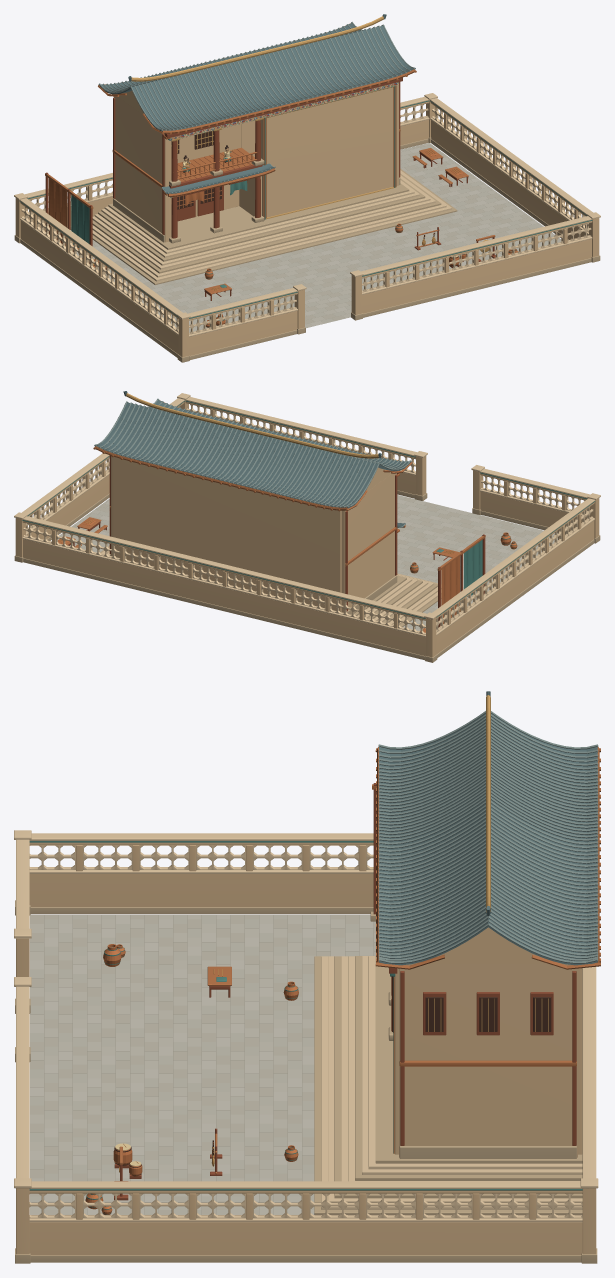
Rendered from music-pavilion.glb.
3 views of the same model, one above another, from view 1: azimuth 30°, elevation 25°; view 2: azimuth 150°, elevation 25°; view 3: azimuth 270°, elevation 25° (orthographic). The views are drawn at different scales.
Parts seen in each view (by area): view 1: court-paving--court-limestone-0, architecture--plaster.001, courtyard-enclosure--plaster.001, courtyard-enclosure--stone-light.001, main-roof--tile.001, terraced-foundation--stone-light, terraced-foundation--stone, main-roof--tile-edge.001, courtyard-enclosure--stone, porch--wood.001, porch--wood-light.001, main-roof--wood-light.001 (+15 smaller); view 2: architecture--plaster.001, courtyard-enclosure--plaster.001, courtyard-enclosure--stone-light.001, main-roof--tile.001, court-paving--court-limestone-0, main-roof--tile-edge.001, courtyard-enclosure--stone, courtyard-enclosure--teal.001, terraced-foundation--stone-light, main-roof--wood-light.001, main-roof--ochre.001, terraced-foundation--stone (+5 smaller); view 3: court-paving--court-limestone-0, main-roof--tile-edge.001, courtyard-enclosure--plaster.001, architecture--plaster.001, courtyard-enclosure--stone-light.001, main-roof--tile.001, terraced-foundation--stone-light, terraced-foundation--stone, court-paving--court-fine-joints, courtyard-enclosure--stone, mural-frame--wood.001, mural-frame--stone.001 (+8 smaller).
Part boxes in pixels (box(x1,y1,x2,y2)): court-paving--court-limestone-0: box(71, 143, 561, 332); architecture--plaster.001: box(113, 85, 398, 242); courtyard-enclosure--plaster.001: box(15, 100, 599, 357); courtyard-enclosure--stone-light.001: box(14, 93, 600, 336); main-roof--tile.001: box(99, 14, 413, 131); terraced-foundation--stone-light: box(92, 170, 451, 281); terraced-foundation--stone: box(92, 168, 457, 284); main-roof--tile-edge.001: box(98, 21, 415, 131); courtyard-enclosure--stone: box(14, 137, 600, 362); porch--wood.001: box(169, 120, 262, 238); porch--wood-light.001: box(163, 135, 257, 208); main-roof--wood-light.001: box(98, 23, 416, 134); architecture--plaster.001: box(111, 456, 396, 612); courtyard-enclosure--plaster.001: box(15, 400, 599, 657); courtyard-enclosure--stone-light.001: box(14, 393, 600, 637); main-roof--tile.001: box(96, 391, 410, 508); court-paving--court-limestone-0: box(51, 495, 557, 631); main-roof--tile-edge.001: box(94, 398, 411, 508); courtyard-enclosure--stone: box(14, 490, 600, 662); courtyard-enclosure--teal.001: box(22, 400, 595, 618); terraced-foundation--stone-light: box(101, 547, 441, 624); main-roof--wood-light.001: box(93, 400, 412, 511); main-roof--ochre.001: box(126, 393, 378, 458); terraced-foundation--stone: box(100, 545, 441, 626); court-paving--court-limestone-0: box(30, 915, 375, 1214); main-roof--tile-edge.001: box(378, 711, 598, 963); courtyard-enclosure--plaster.001: box(16, 842, 596, 1255); architecture--plaster.001: box(394, 964, 582, 1157); courtyard-enclosure--stone-light.001: box(14, 830, 598, 1222); main-roof--tile.001: box(379, 691, 597, 965); terraced-foundation--stone-light: box(321, 956, 582, 1209); terraced-foundation--stone: box(314, 956, 582, 1214); court-paving--court-fine-joints: box(30, 915, 375, 1214); courtyard-enclosure--stone: box(15, 900, 597, 1263); mural-frame--wood.001: box(400, 971, 576, 1145); mural-frame--stone.001: box(399, 1146, 576, 1158).
Size of the model in its own units: 46.98 by 17.83 by 32.78.
Materials: 22 (1 with a texture image).
